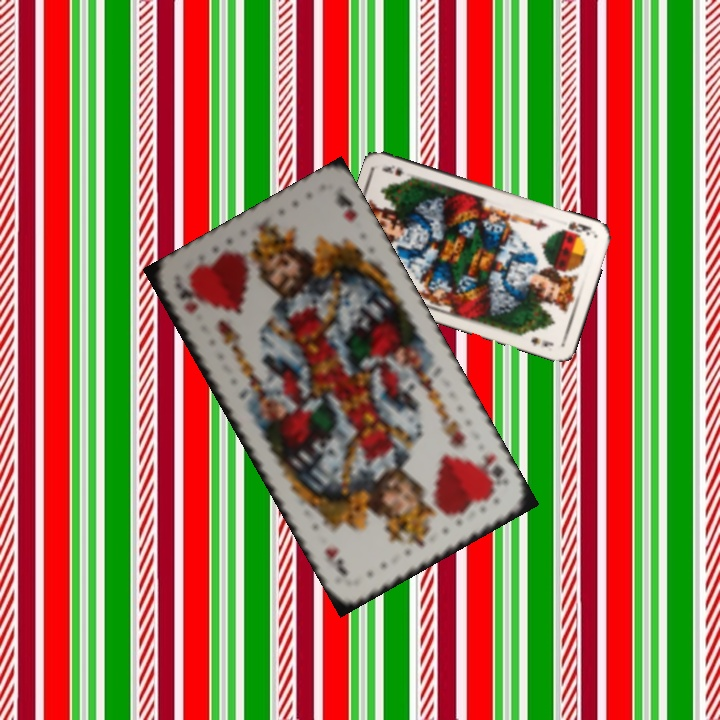HK: (475, 449, 507, 495), (175, 283, 201, 317)
SK: (564, 218, 594, 238)
